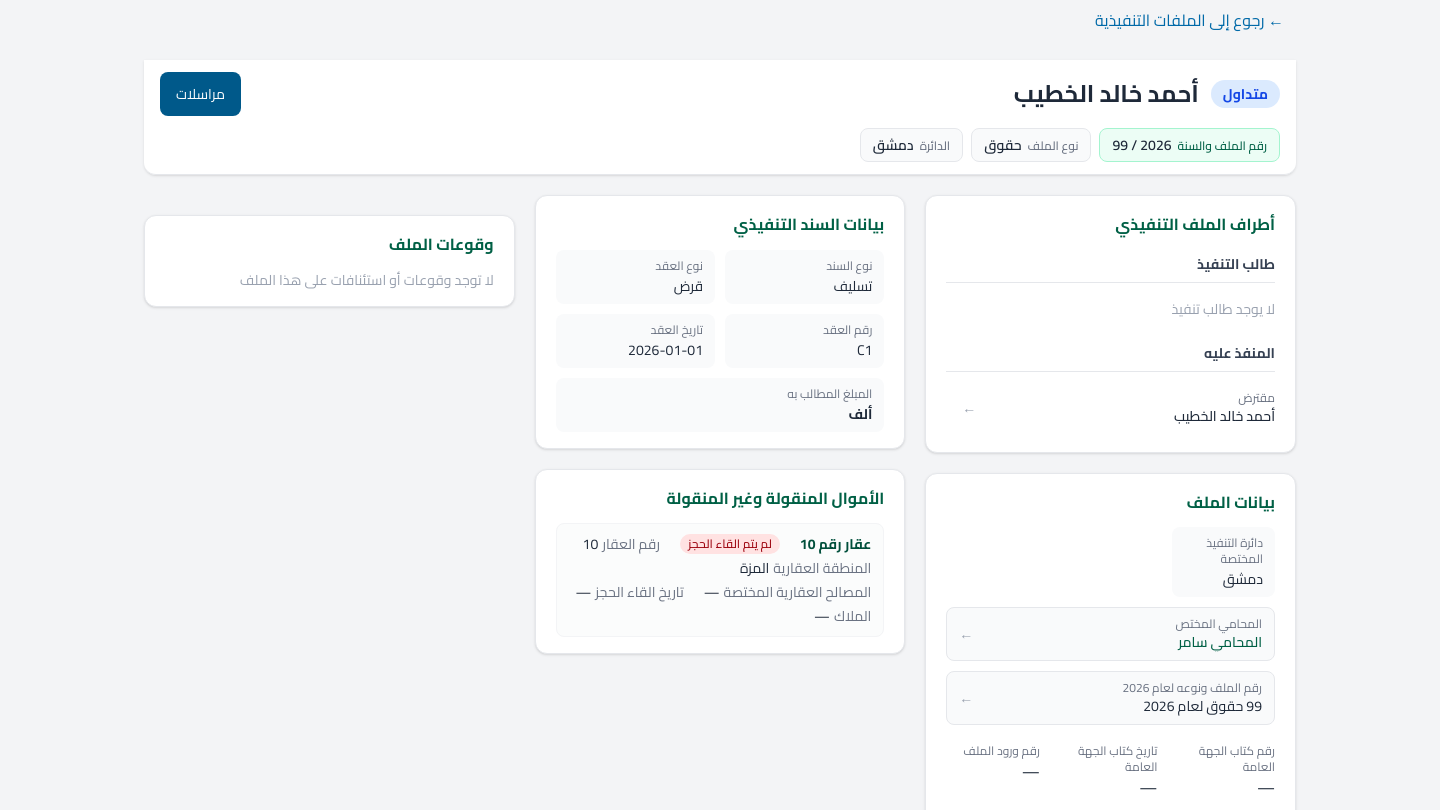
Test: PortalFileDetail المرآة القرائية › بلاطة «المحامي المختص» تفتح سجل التعاقب من بيانات الاستجابة ذاتها (ف3/ف5)
Click the button with aria-label "عرض سجل التعاقب على الملف" at (1219, 624), box left=946, top=607, right=1275, bottom=661
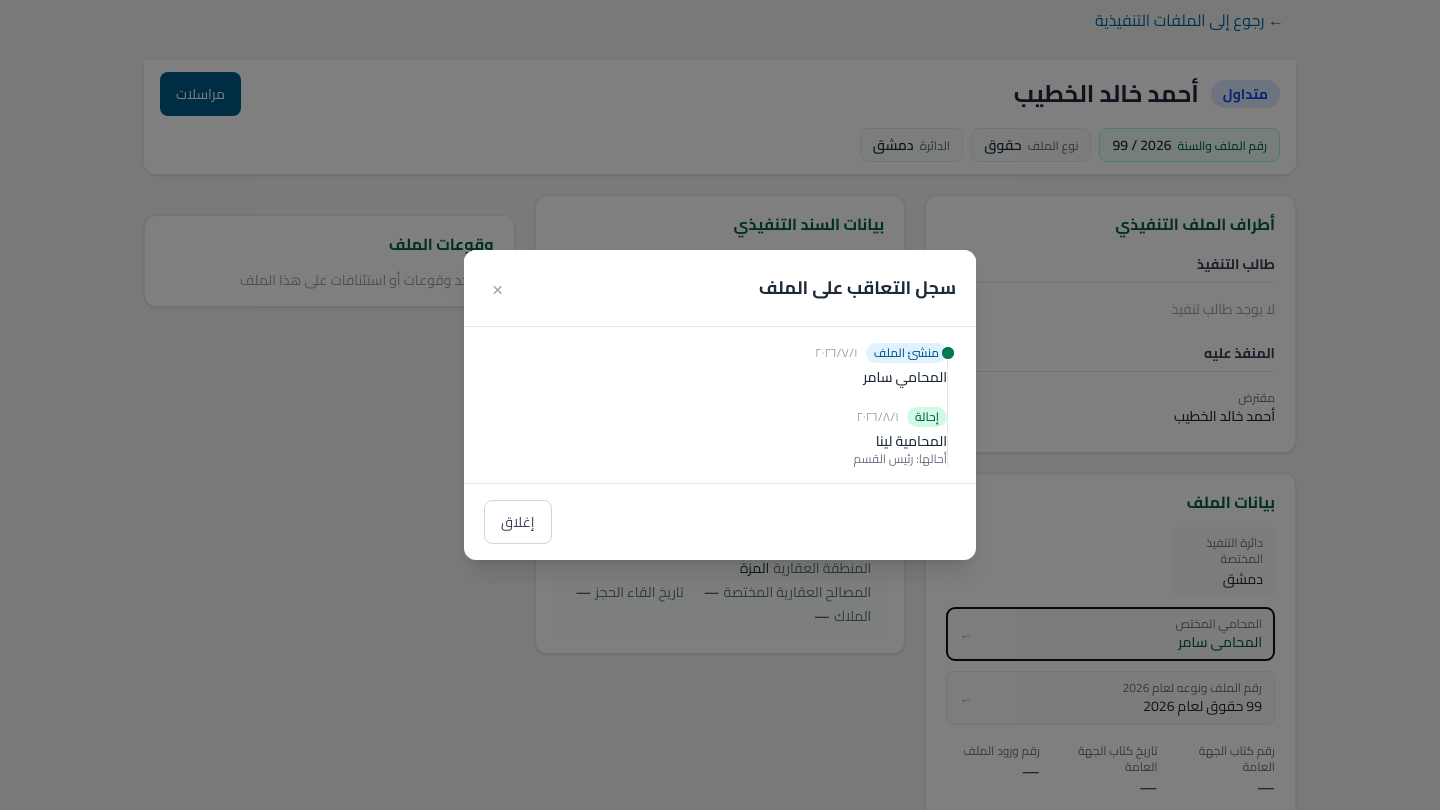
Result: the text "منشئ الملف" is shown at left=866, top=343, right=947, bottom=363
Result: the text "المحامية لينا" is shown at left=876, top=428, right=947, bottom=454
Result: the text "أحالها: رئيس القسم" is shown at left=854, top=447, right=947, bottom=470
